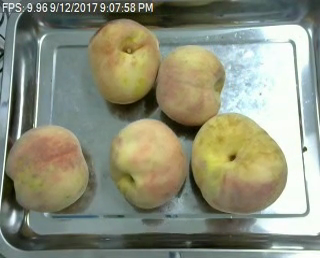Peach: (191, 111, 288, 214), (8, 124, 90, 213), (109, 118, 187, 208), (88, 17, 160, 104), (156, 43, 226, 126)
